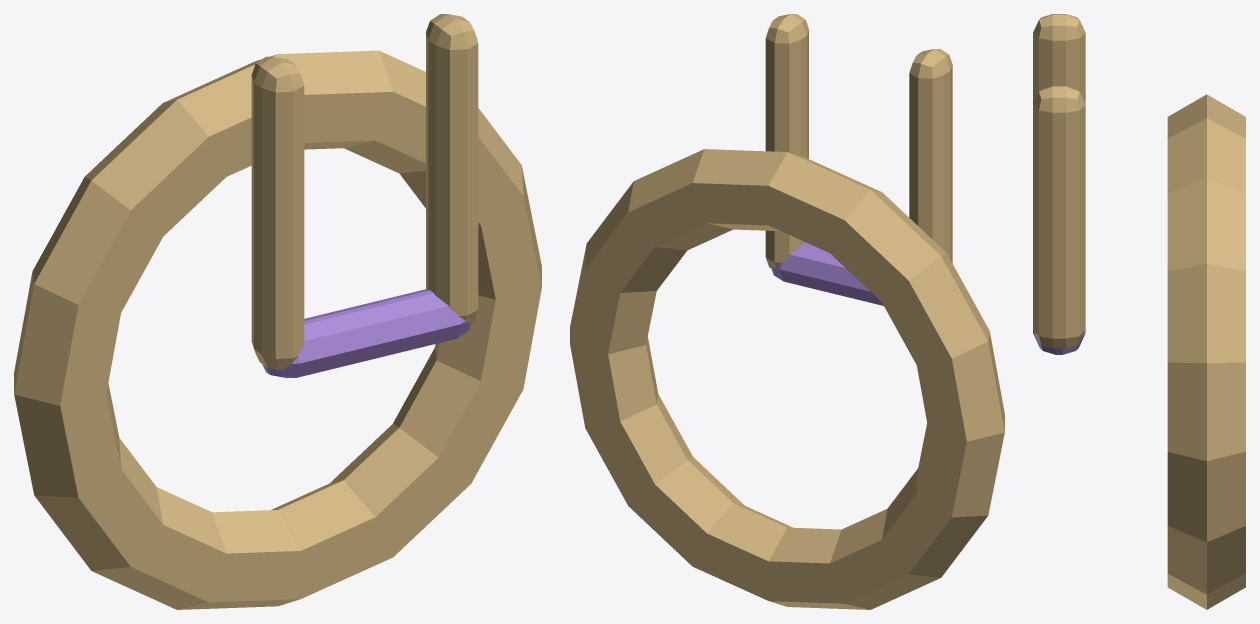
The model's file is arm_echo_ring.glb.
3 renders of one model, left to right at view 1: azimuth 30°, elevation 25°; view 2: azimuth 150°, elevation 25°; view 3: azimuth 270°, elevation 25°, orthographic. The views are drawn at different scales.
Parts seen in each view (by area): view 1: arm_echo_ring; view 2: arm_echo_ring; view 3: arm_echo_ring.
Part boxes in pixels (x1,y1,x2,y2): arm_echo_ring: [14, 14, 541, 609]; arm_echo_ring: [570, 14, 1004, 609]; arm_echo_ring: [1033, 14, 1245, 609].
Bounding box in the file's own units: 0.63 × 0.721 × 0.2596.
